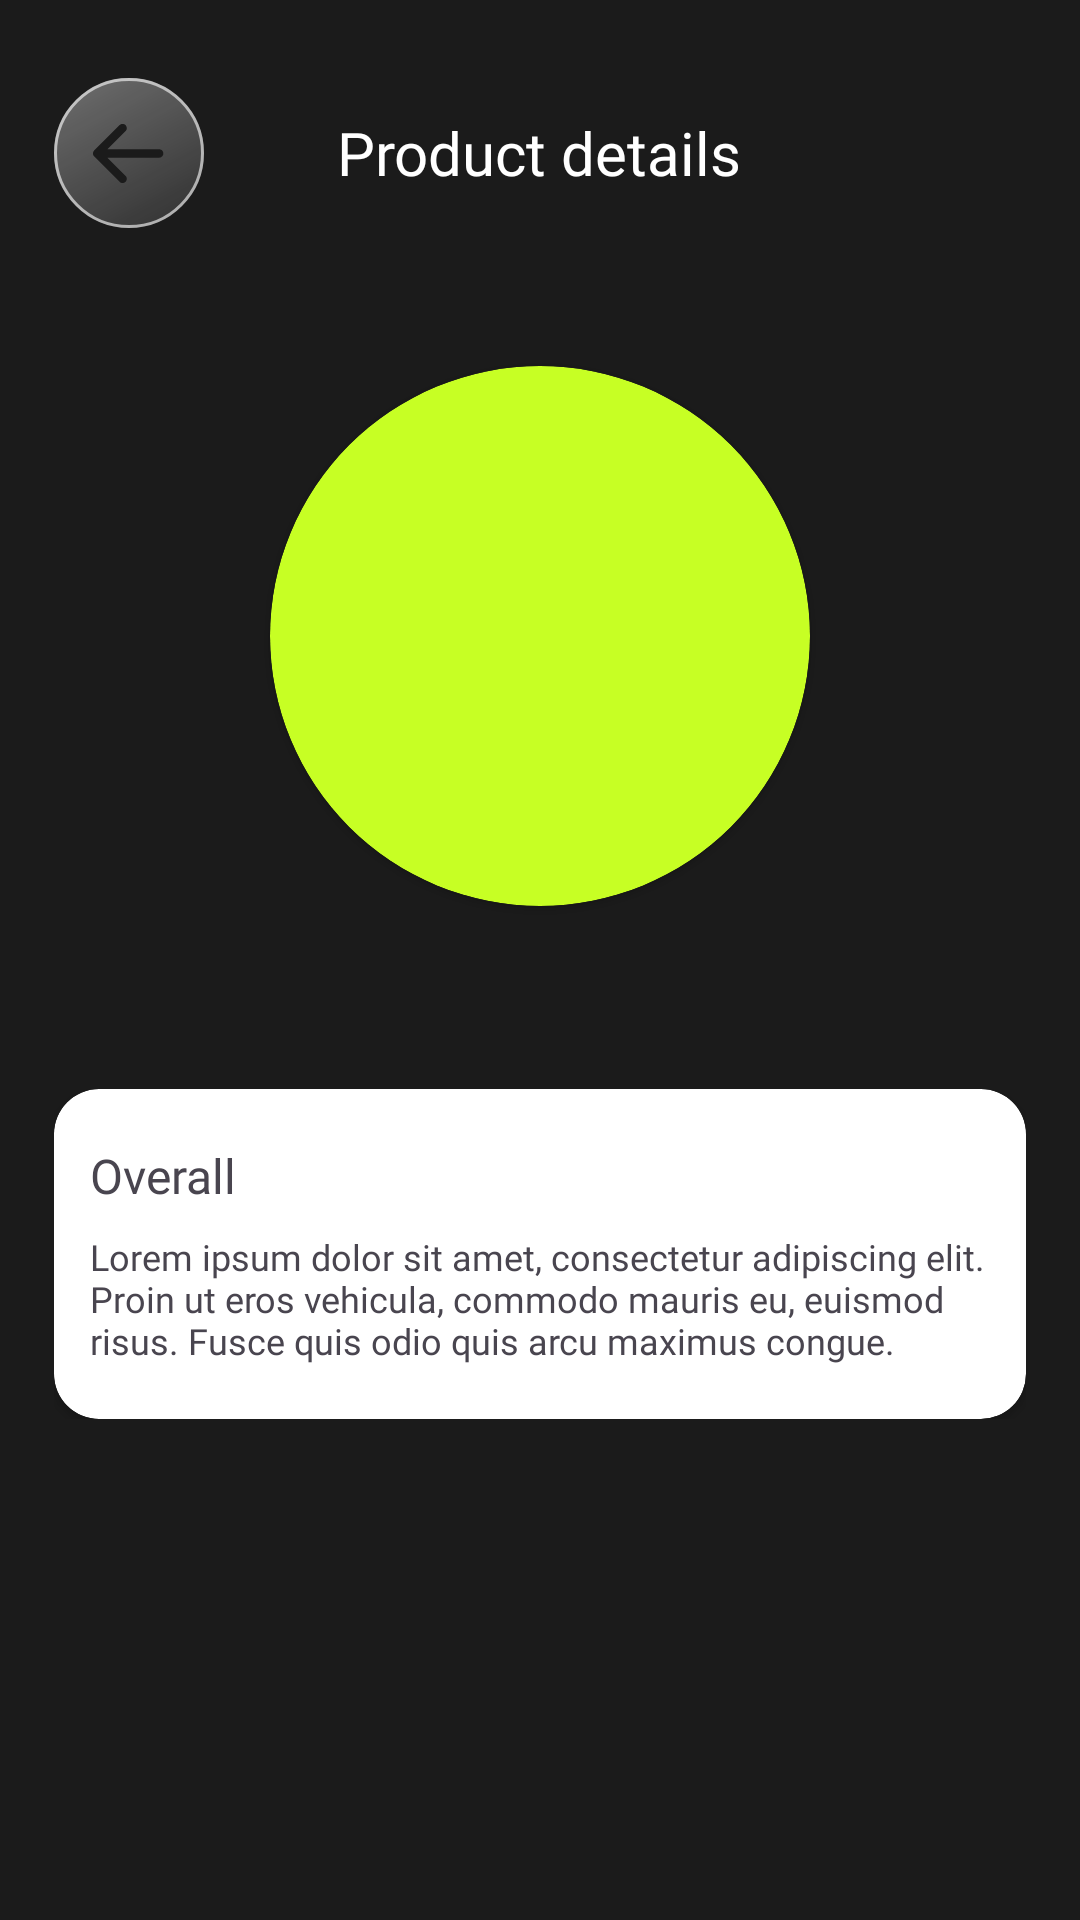

Icon bounding boxes for this 1080×1920 phone screenshot, format (x1, y1, x2, y2):
back: (54, 78, 204, 228)
